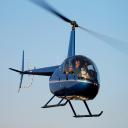helicopter: (10, 1, 105, 118)
